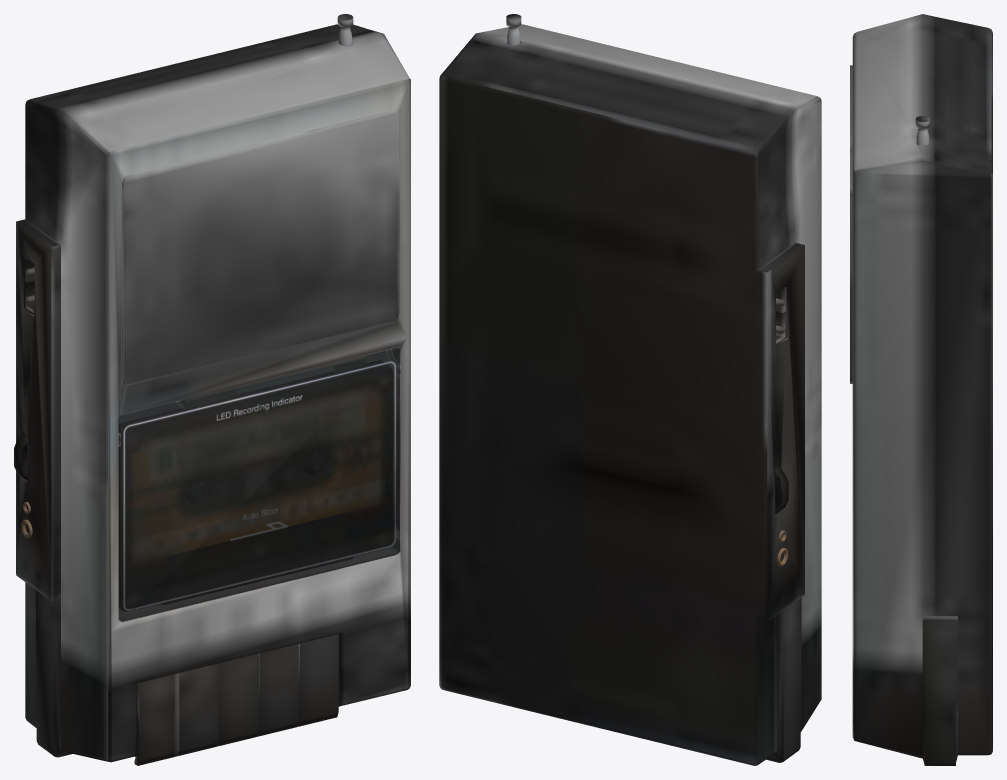
3 renders of one model, left to right at view 1: azimuth 30°, elevation 25°; view 2: azimuth 150°, elevation 25°; view 3: azimuth 270°, elevation 25°, orthographic. The views are drawn at different scales.
Visible parts, largest first — view 1: cassette_player_body, cassette_player_tape; view 2: cassette_player_body; view 3: cassette_player_body.
Part boxes in pixels (box(x1,y1,x2,y2)): cassette_player_body: box(14, 14, 410, 765); cassette_player_tape: box(119, 361, 392, 610); cassette_player_body: box(439, 14, 821, 765); cassette_player_body: box(850, 14, 992, 765).
Bounding box in the file's own units: 0.129 × 0.2368 × 0.0489.
Materials: 3 (3 with a texture image).
